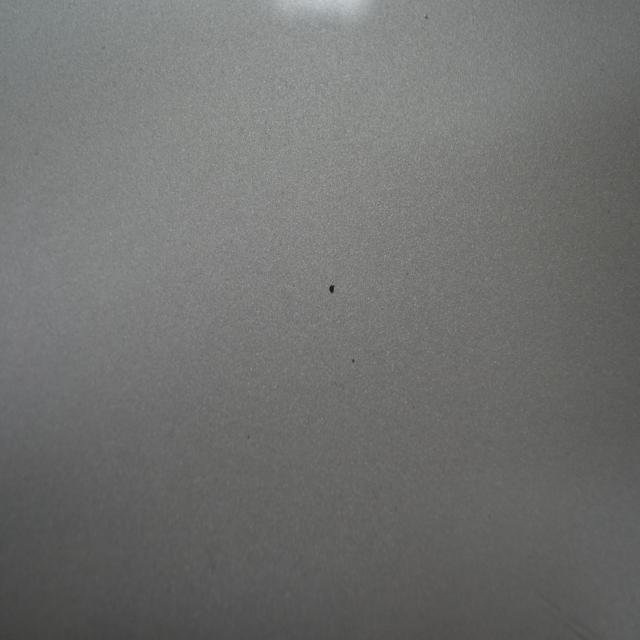dirt: (326, 280, 338, 298), (423, 11, 430, 25), (350, 355, 358, 365)
